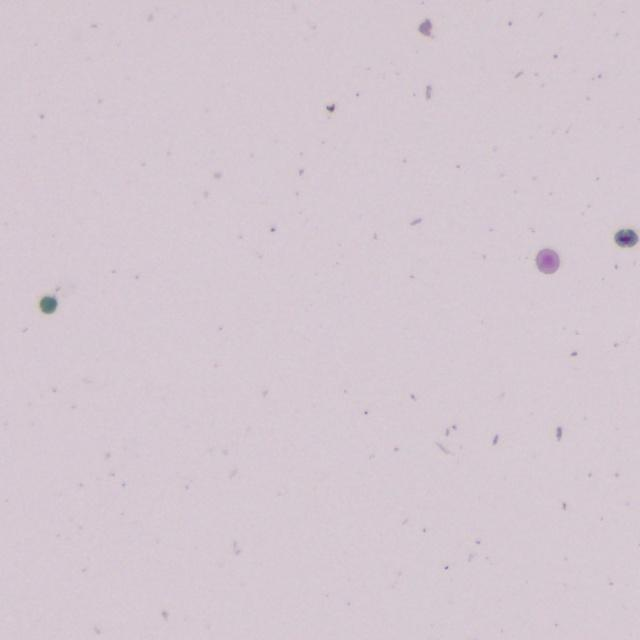intermediate: (614, 229, 637, 246)
non_viable: (41, 296, 56, 312)
